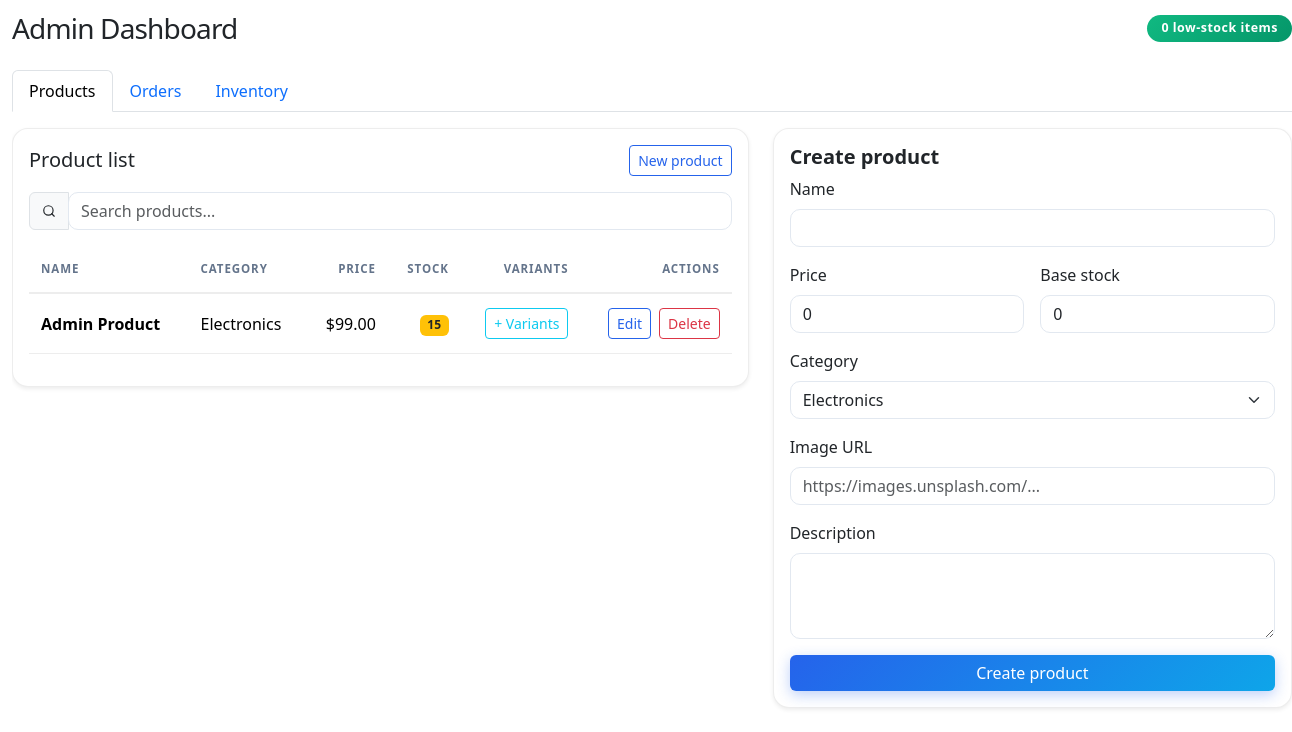
Test: AdminDashboardPage › orders tab shows order table
Click the tab "Orders".
click(155, 91)  # box [112, 70, 198, 112]
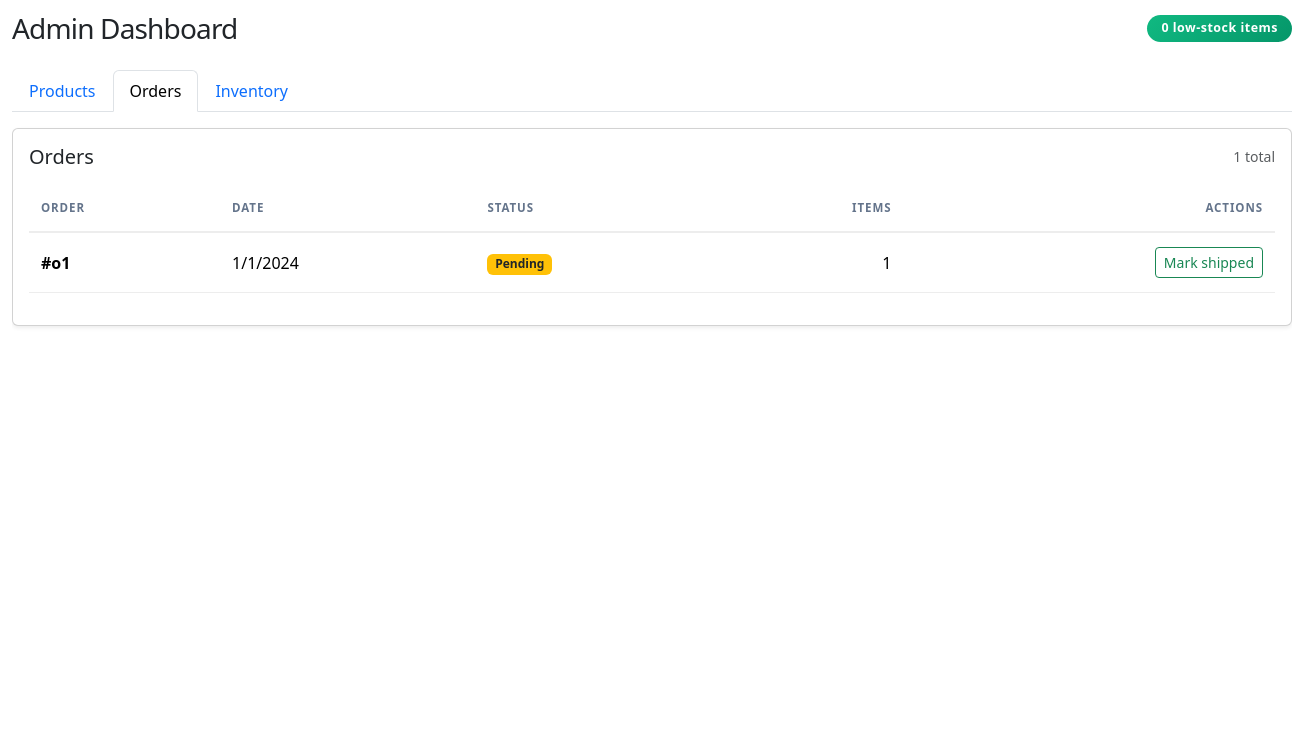
Expected: the table named "admin orders table" is shown, [29, 185, 1275, 293]
